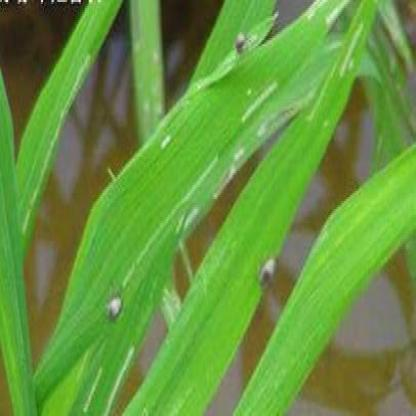rice-bug: (256, 249, 280, 290), (108, 291, 122, 320), (233, 30, 248, 54)
